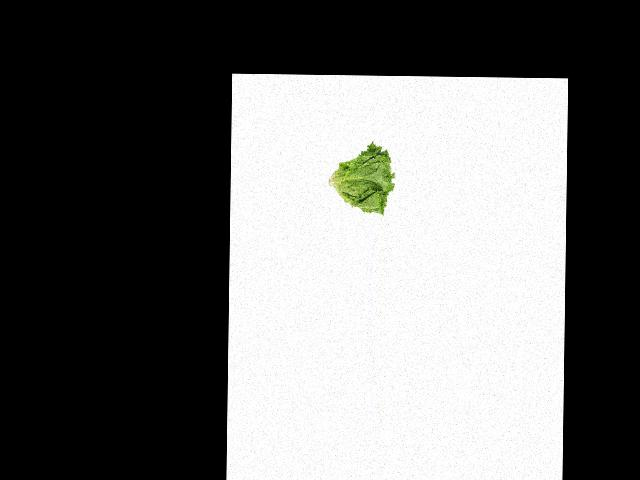lettuce: (326, 144, 398, 216)
